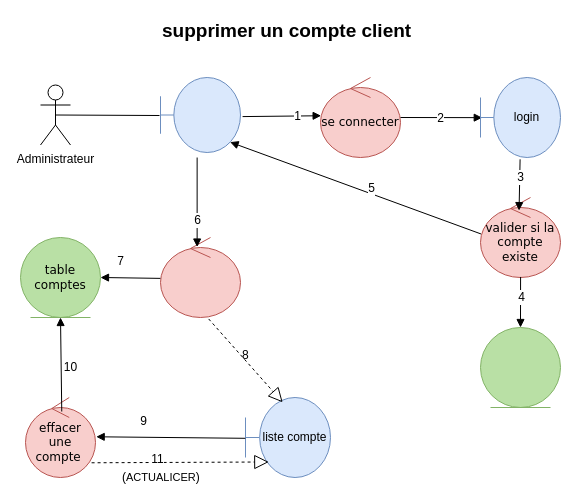
Some shapes in this 578 by 504 pixel diagram are drawn without their labels. The shapes that lost their labels are listed below. From the top down, each one's centre as x and y in pixels, then its label:
At [200,114]: "accueil".
At [200,277]: "afficher liste de comptes".
At [520,367]: "table utilisateurs".
